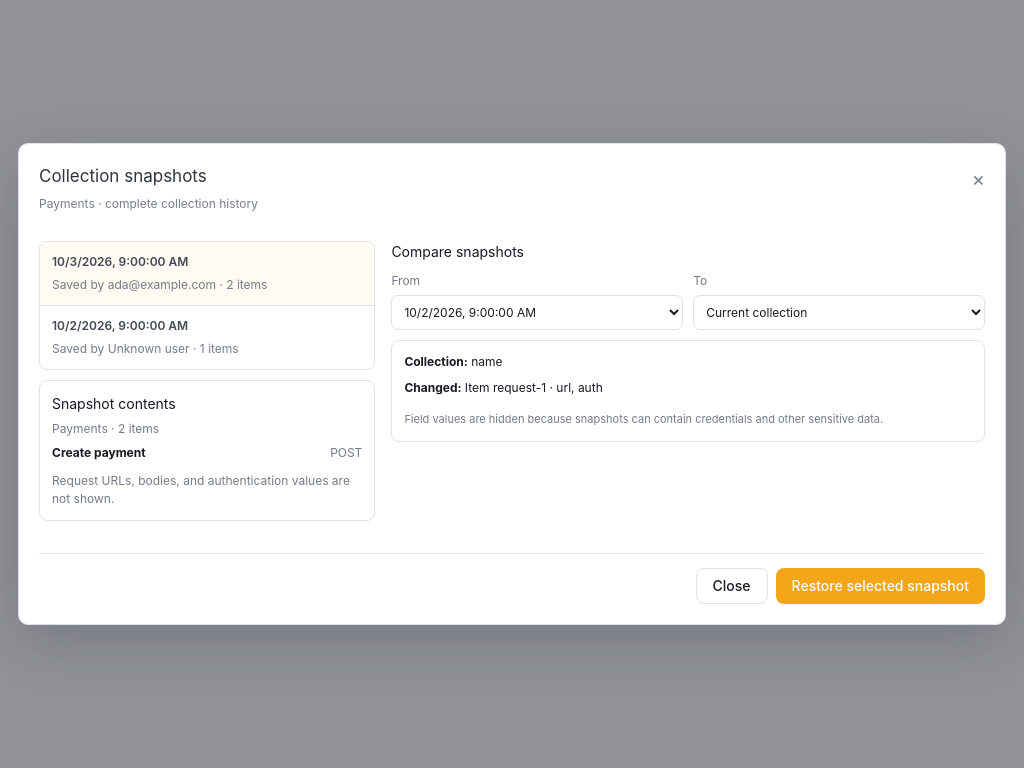
Test: collection snapshots dialog › lists history, compares with current, and confirms atomic restore
The image size is (1024, 768).
Expected: the text "Saved by ada@example.com · 2 items" is shown, [52,276,267,294]
Expected: the text "name" is shown, [471,354,502,369]
Click the button "Restore selected snapshot" at [880, 586], box [776,568,985,604]
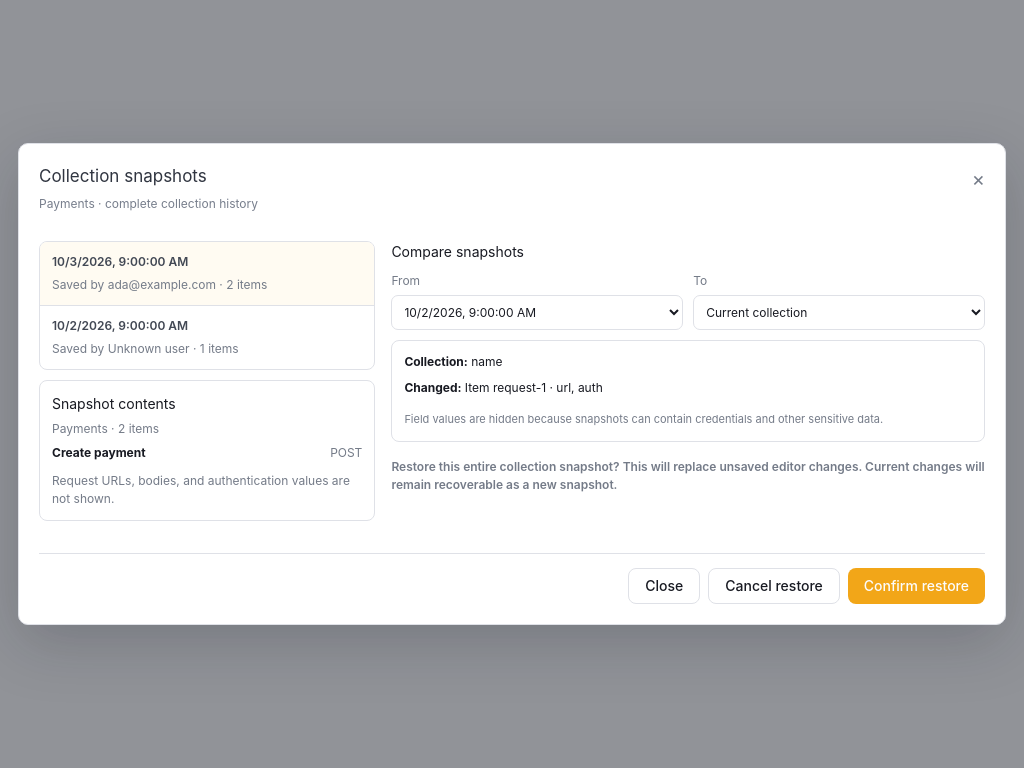
Expected: the message shows "replace unsaved editor changes", [620,459,862,474]
Click the button "Confirm restore" at [916, 586], box [848,568,985,604]
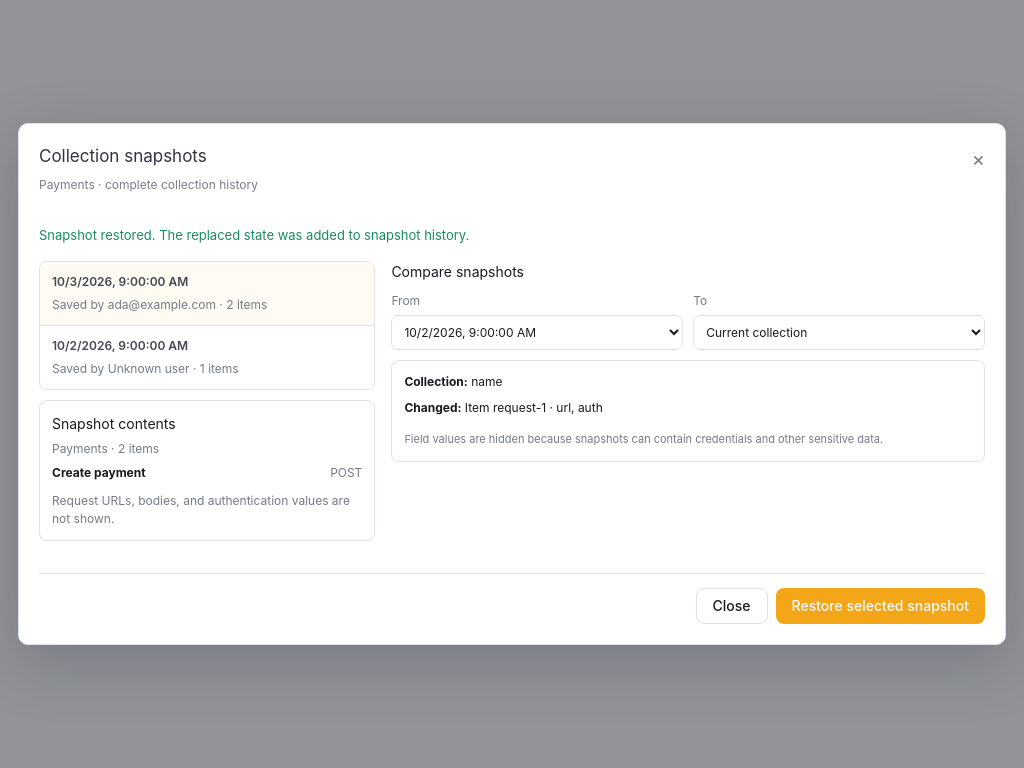
Expected: the message shows "Snapshot restored", [39,226,469,242]
